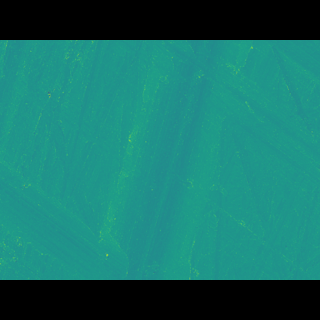Loch: (145, 68, 319, 179), (0, 155, 124, 251)
